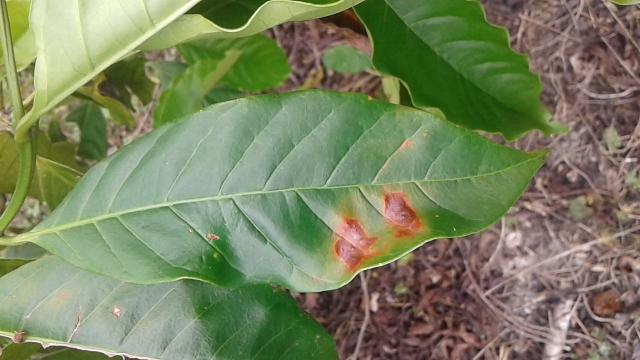red_spider_mite: (28, 90, 546, 292)
